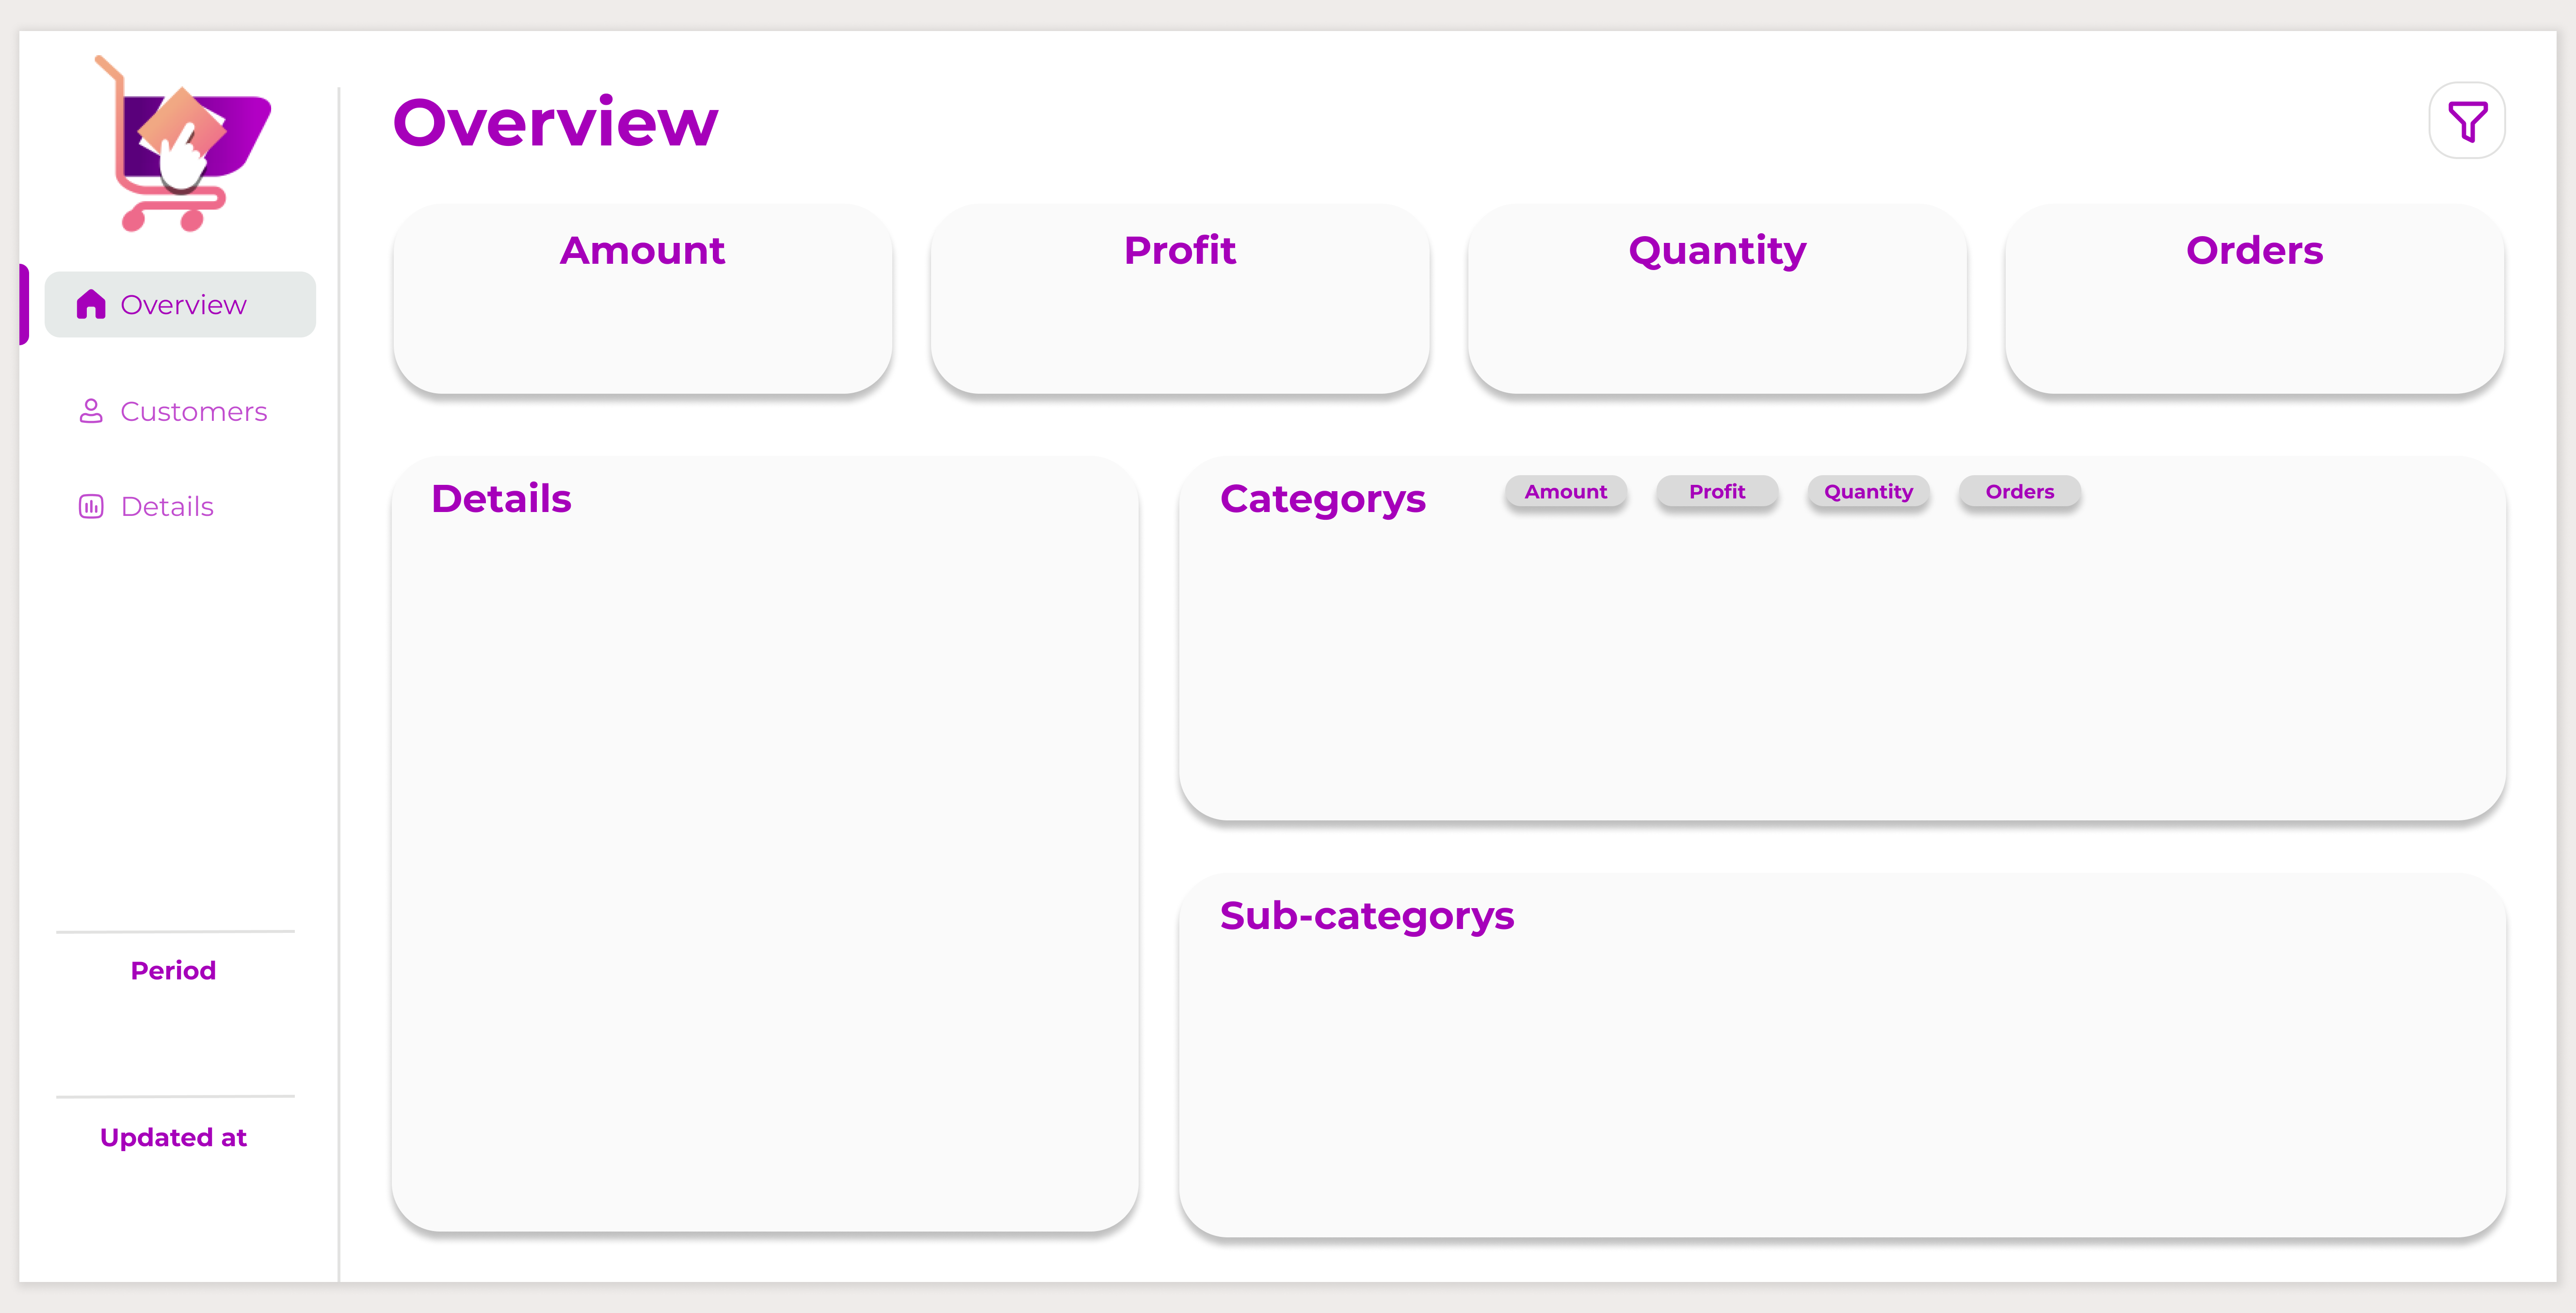

What the dashboard file says about the page in this screenshot:
{"tool":"powerbi","page":{"name":"Overview","canvas":[1328,677],"ordinal":0},"visuals":[{"type":"card","fields":{"Values":["Sum(Order Details.Amount)"]},"box":[205.7,141.4,250,54.3],"z":0},{"type":"shape","title":"l","box":[784.6,251.8,47.3,20.9],"z":500,"group":"g1"},{"type":"card","fields":{"Values":["Sum(Order Details.Profit)"]},"box":[478.6,141.4,257.1,54.3],"z":1000},{"type":"clusteredBarChart","title":"Amount_cat","fields":{"Category":["Order Details.Category"],"Y":["Sum(Sales target.Target)","Sum(Order Details.Amount)"]},"box":[604,271.7,691.4,155.7],"z":1000,"group":"g1"},{"type":"card","fields":{"Values":["Sum(Order Details.Quantity)"]},"box":[757.1,141.4,257.1,54.3],"z":2000},{"type":"clusteredBarChart","title":"Amount_sub","fields":{"Category":["Order Details.Sub-Category"],"Y":["Sum(Order Details.Amount)"]},"box":[608.3,483.1,687.1,152.9],"z":2000,"group":"g1"},{"type":"card","fields":{"Values":["CountNonNull(Order Details.Order ID)"]},"box":[1030,141.4,261.4,54.3],"z":3000},{"type":"tableEx","title":"Amount_tab","fields":{"Values":["Order Details.Category","Order Details.Sub-Category","Sum(Order Details.Amount)"]},"box":[204,280.3,384.3,351.4],"z":3000,"group":"g1"},{"type":"shape","box":[852.2,242.2,65.6,21.1],"z":4000},{"type":"shape","box":[931.8,241.8,65.5,20.9],"z":5000},{"type":"shape","box":[775.7,242.9,65.7,21.4],"z":6000},{"type":"shape","title":"Shape","box":[1007.8,242.2,65.6,21.1],"z":7000},{"type":"group","id":"g1","title":"Amount","box":[204,251.8,1091.5,384.2],"z":11000},{"type":"shape","box":[1248.6,41.4,47.1,44.3],"z":12000},{"type":"textbox","box":[11.4,517.1,162.9,41.4],"z":14000},{"type":"card","fields":{"Values":["Min(updated.updated)"]},"box":[10,570,162.9,95.7],"z":15000},{"type":"shape","box":[38.6,195.7,105.7,35.7],"z":15001},{"type":"shape","box":[38.6,242.9,105.7,35.7],"z":15002}]}

Visuals, with their boxes on the page's 1328x677 design canvas (x1, y1, x2, y2). These are canvas units, not pixel positions in the 2576x1313 screenshot, which may show the page scaled, cropped or inside an application window:
card - Sum(Order Details.Amount): select_region(206, 141, 456, 196)
"l" shape: select_region(785, 252, 832, 273)
card - Sum(Order Details.Profit): select_region(479, 141, 736, 196)
"Amount_cat" clusteredBarChart: select_region(604, 272, 1295, 427)
card - Sum(Order Details.Quantity): select_region(757, 141, 1014, 196)
"Amount_sub" clusteredBarChart: select_region(608, 483, 1295, 636)
card - CountNonNull(Order Details.Order ID): select_region(1030, 141, 1291, 196)
"Amount_tab" tableEx: select_region(204, 280, 588, 632)
shape: select_region(852, 242, 918, 263)
shape: select_region(932, 242, 997, 263)
shape: select_region(776, 243, 841, 264)
"Shape" shape: select_region(1008, 242, 1073, 263)
"Amount" group: select_region(204, 252, 1296, 636)
shape: select_region(1249, 41, 1296, 86)
textbox: select_region(11, 517, 174, 558)
card - Min(updated.updated): select_region(10, 570, 173, 666)
shape: select_region(39, 196, 144, 231)
shape: select_region(39, 243, 144, 279)
